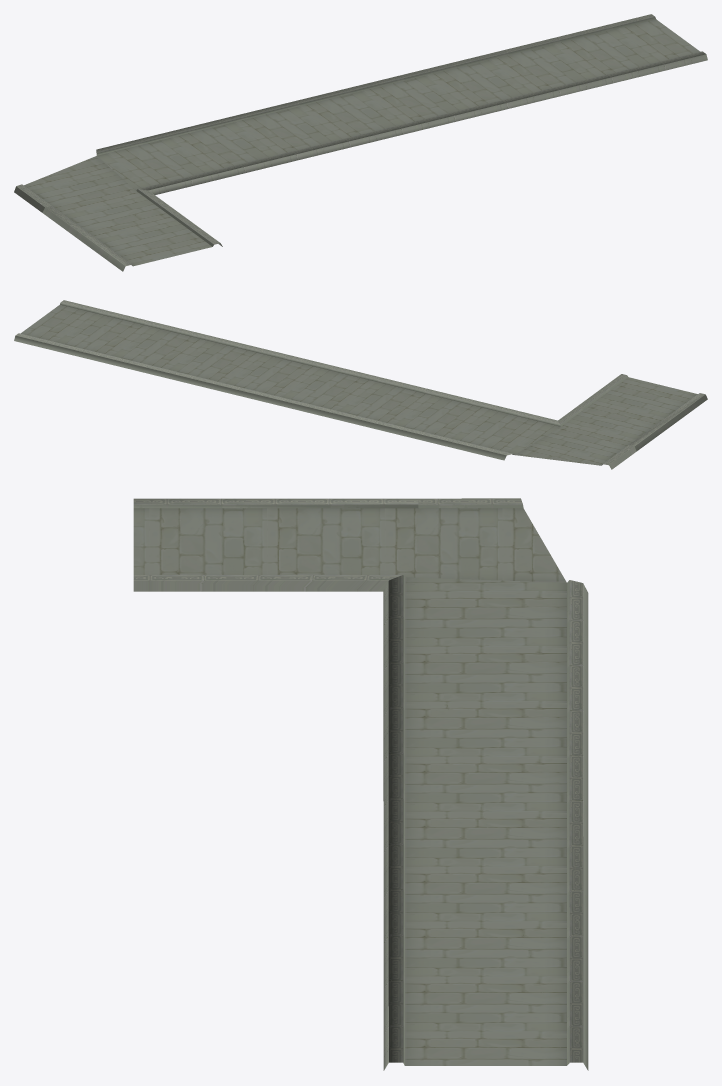
File: lumian_Forest_02.FBX
3 renders of one model, top to bottom at view 1: azimuth 30°, elevation 25°; view 2: azimuth 150°, elevation 25°; view 3: azimuth 270°, elevation 25°, orthographic. The views are drawn at different scales.
Visible parts, largest first — view 1: lumian_Forest_02; view 2: lumian_Forest_02; view 3: lumian_Forest_02.
Part boxes in pixels (box(x1,y1,x2,y2)): lumian_Forest_02: box(14, 14, 707, 271); lumian_Forest_02: box(14, 300, 707, 469); lumian_Forest_02: box(133, 498, 588, 1070).
Bounding box in the file's own units: 4701 × 34.04 × 1595.
